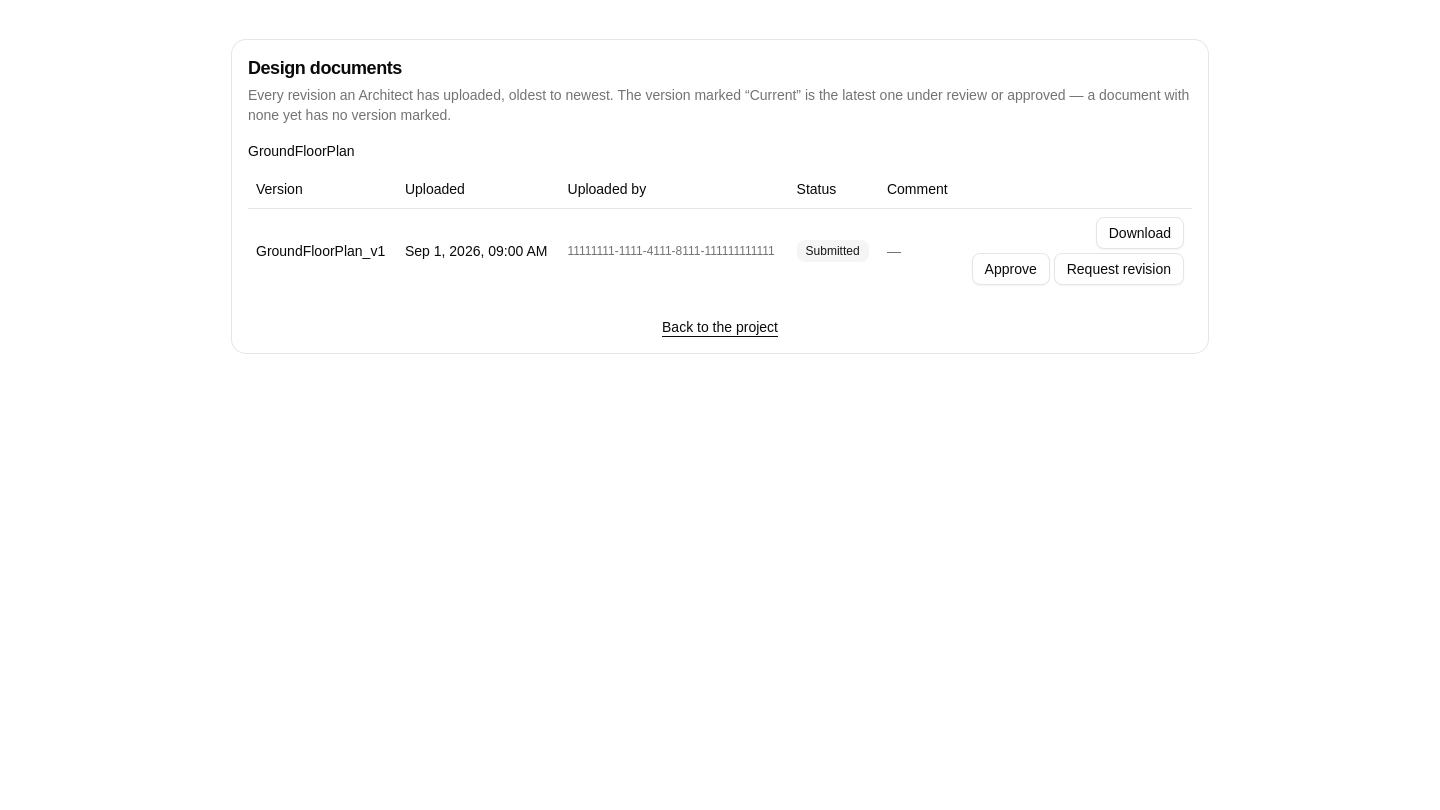
Test: DesignDocumentsPage › refuses to submit a revision request with a blank comment
Click the button "Request revision". click: (1119, 269)
box: [1054, 253, 1184, 285]
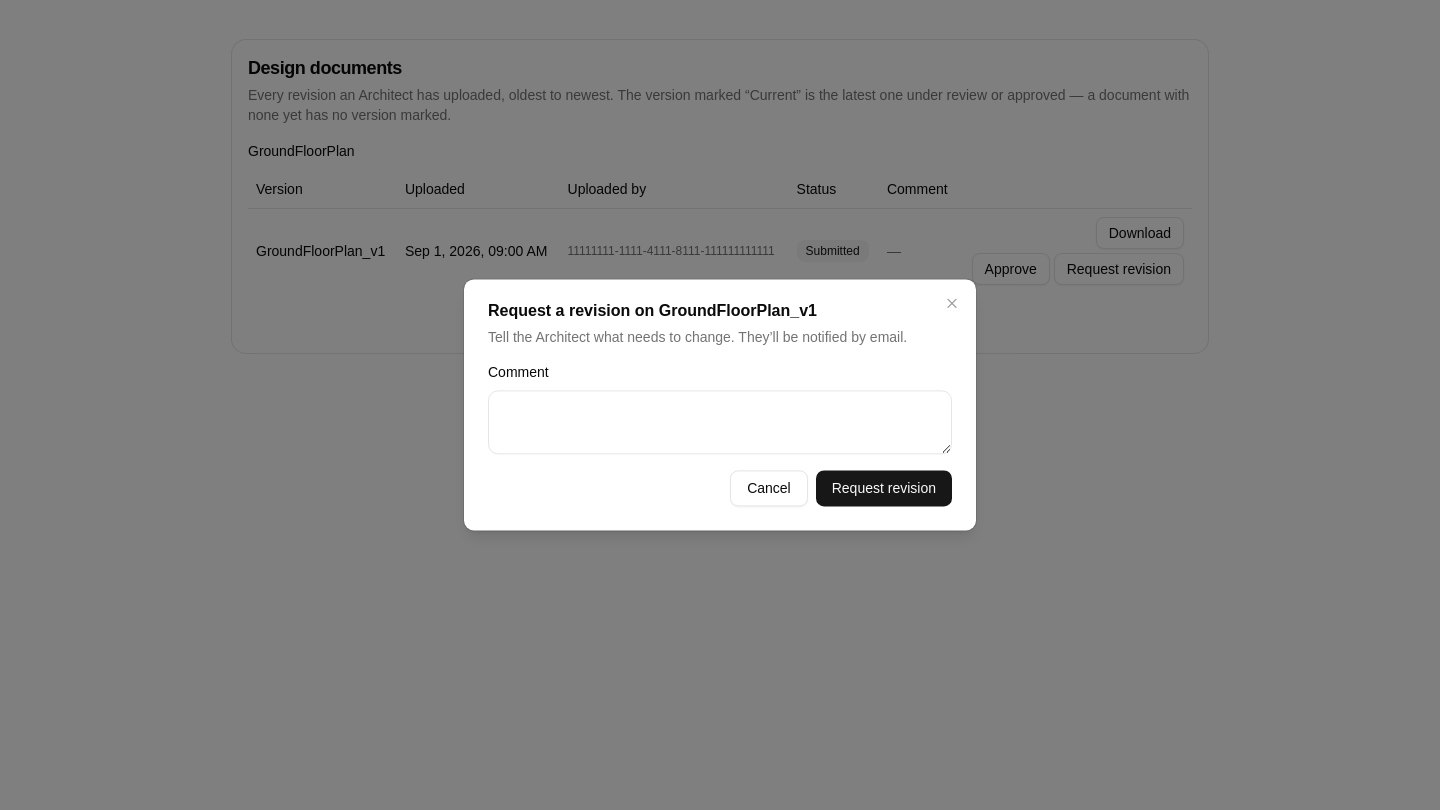
Click the button "Request revision". click: (884, 489)
box: [816, 471, 952, 507]
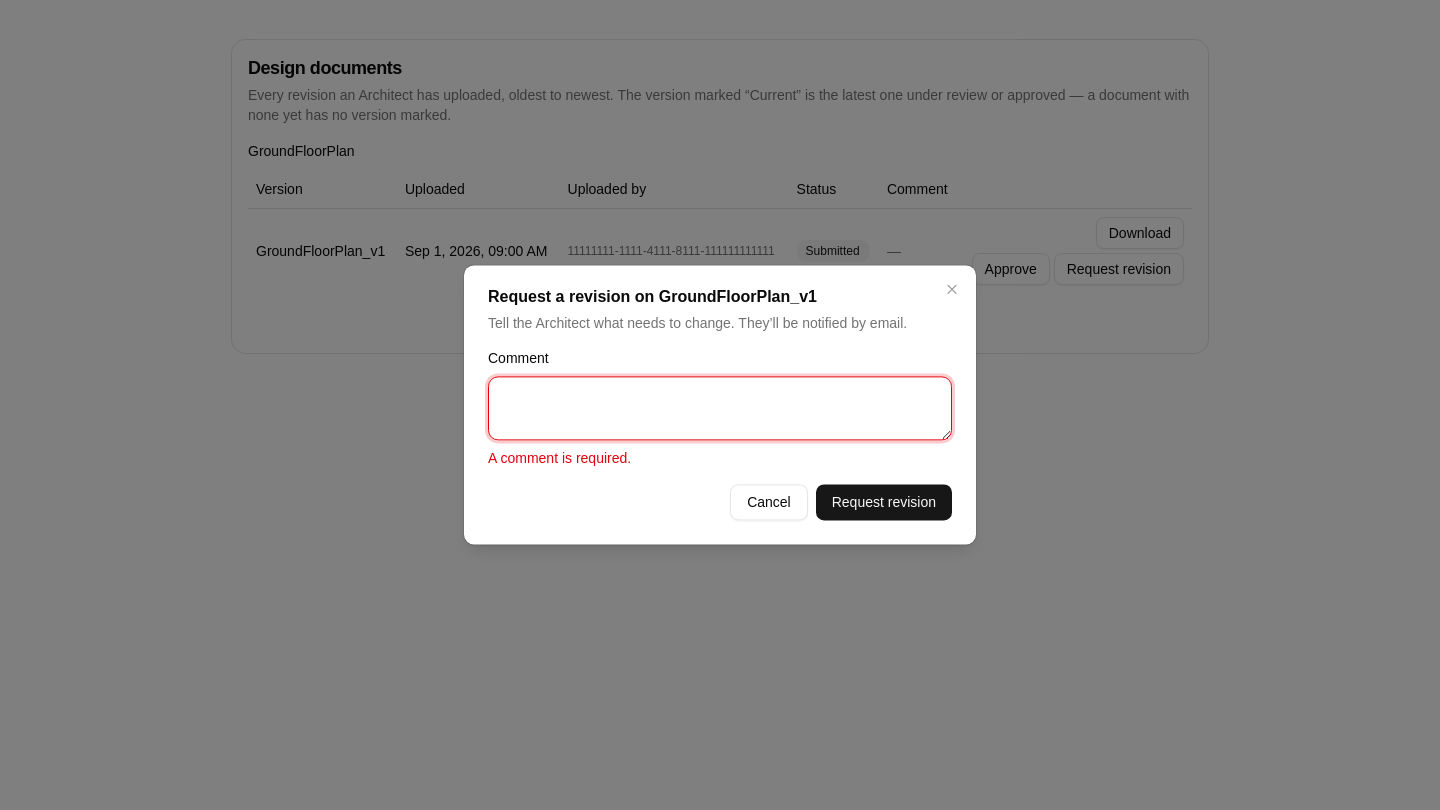
Result: the text "A comment is required." is shown at [488, 451, 631, 467]
